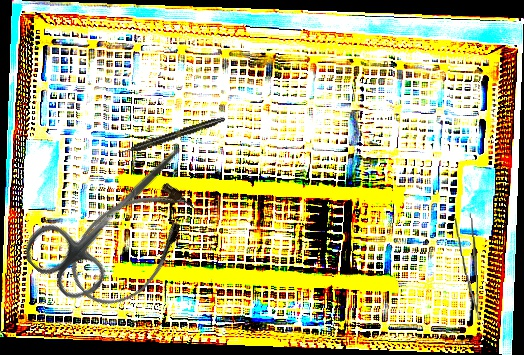Cannula: (53, 164, 212, 322)
Handpiece: (116, 114, 227, 158)
Iris Scissors: (16, 115, 209, 311)
Tissue Forceps: (454, 209, 480, 322)
